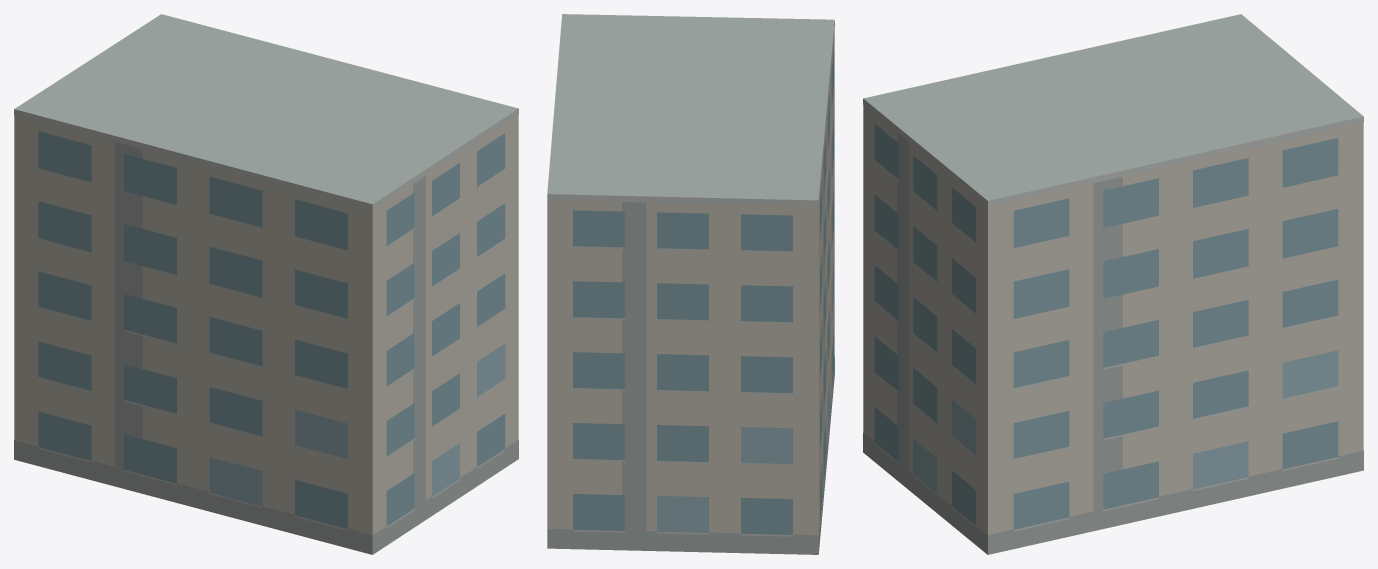
Rendered from survey-upis-32835235.glb.
3 views of the same model, side by side, from view 1: azimuth 30°, elevation 25°; view 2: azimuth 150°, elevation 25°; view 3: azimuth 270°, elevation 25° (orthographic).
Parts seen in each view (by area): view 1: survey-upis-32835235.tmp; view 2: survey-upis-32835235.tmp; view 3: survey-upis-32835235.tmp.
Part boxes in pixels (bbox=[...]): survey-upis-32835235.tmp: bbox=[14, 14, 518, 554]; survey-upis-32835235.tmp: bbox=[547, 14, 834, 554]; survey-upis-32835235.tmp: bbox=[863, 14, 1363, 554].
Size of the model in its own units: 15.97 by 14.1 by 18.08.
